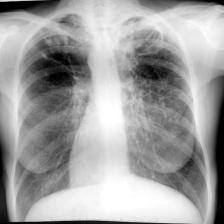tuberculosis: (9, 7, 213, 223)
